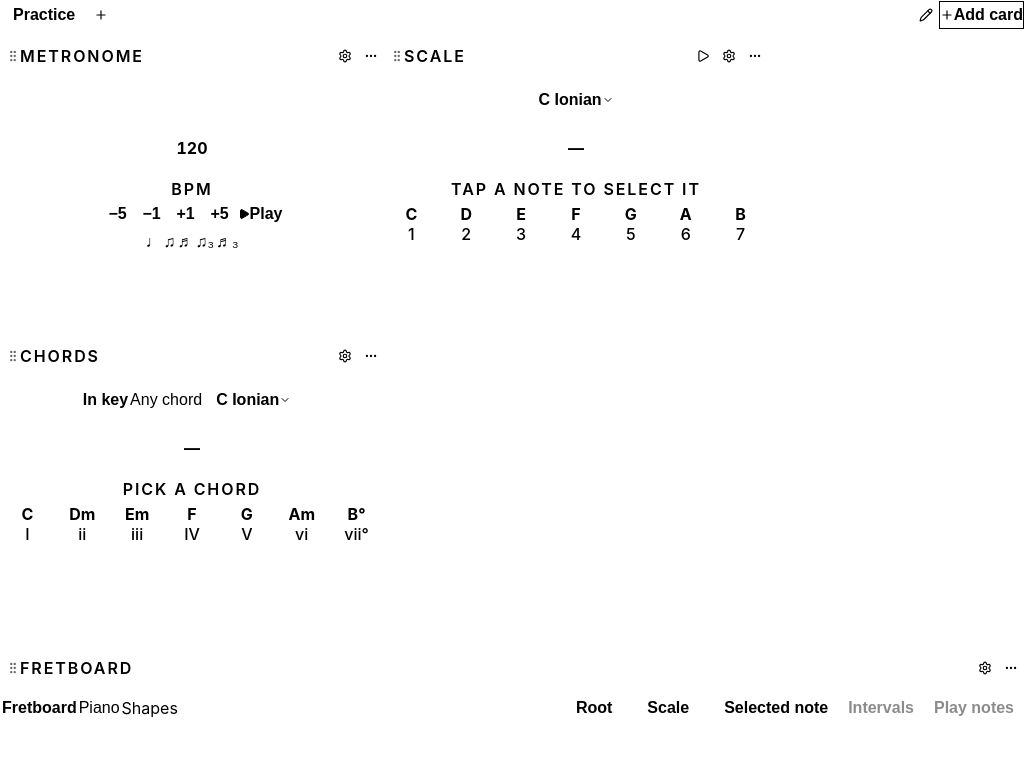
it: + creates a workspace and opens its Edit workspace panel to name it and add cards
Click the button named "New workspace".
click(101, 15)  # box [88,2,114,28]
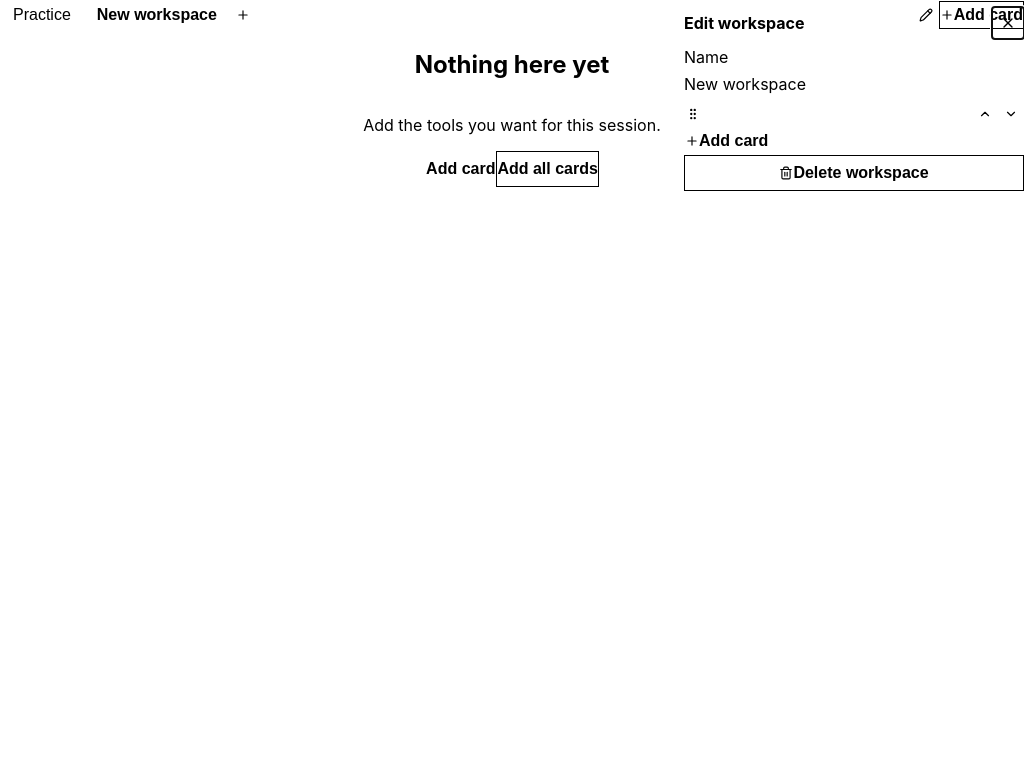
Replace the text in the field named "Workspace name" with "Scales warm-up" at [854, 84], box [684,66,1023,100]
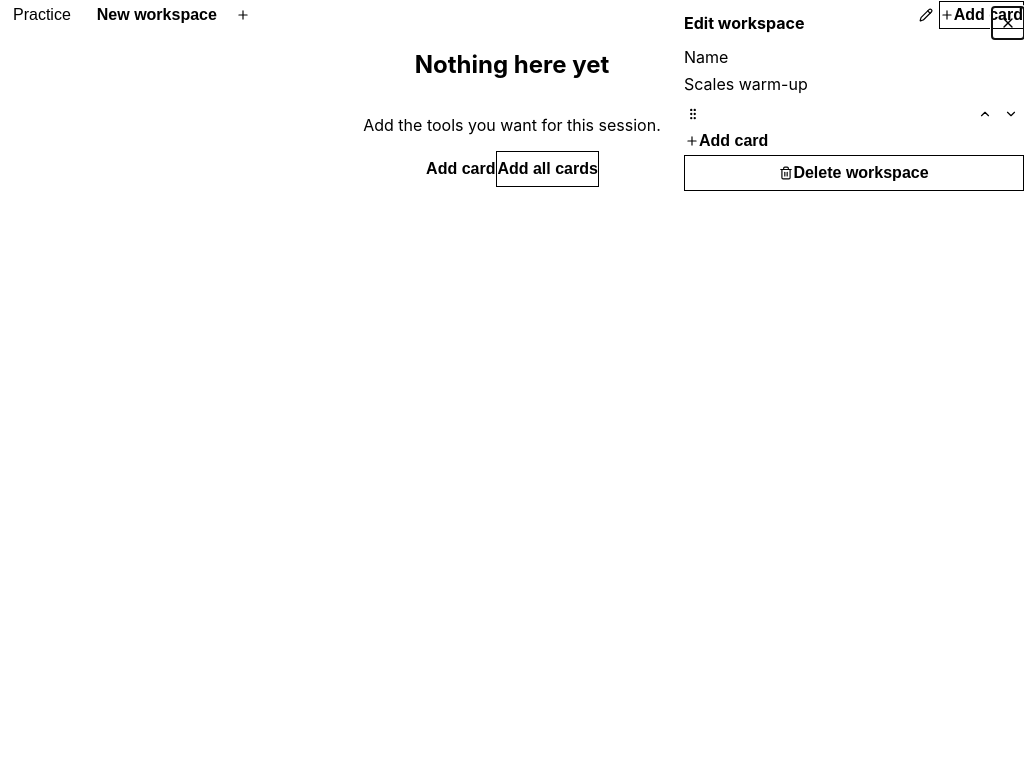
Press Enter in the field named "Workspace name", box [684,66,1023,100]
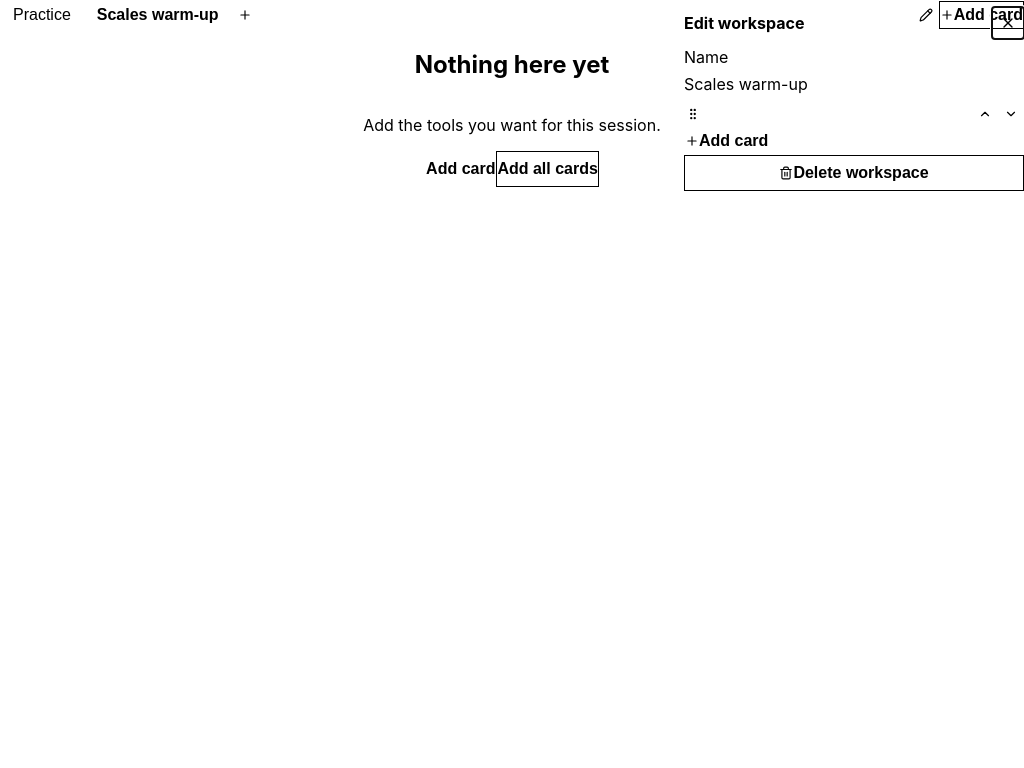
Result: the tab "Scales warm-up" is shown at [84,0,232,30]
